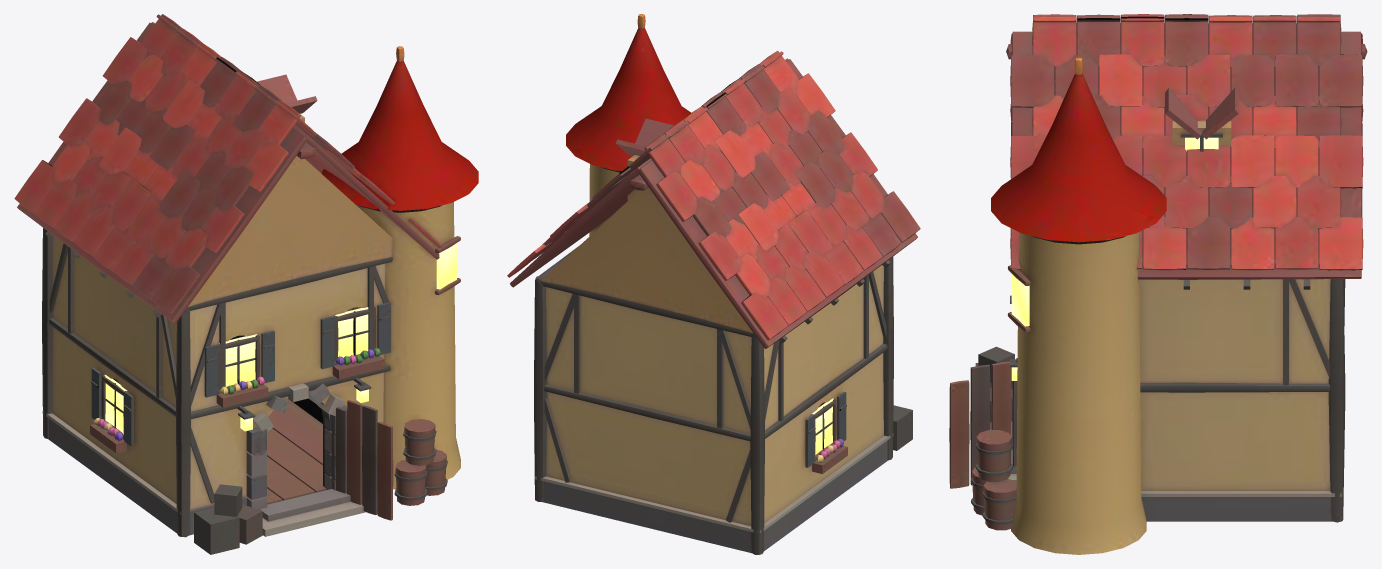
The model's file is house_c.glb.
3 views of the same model, side by side, from view 1: azimuth 30°, elevation 25°; view 2: azimuth 150°, elevation 25°; view 3: azimuth 270°, elevation 25° (orthographic). The views are drawn at different scales.
Parts seen in each view (by area): view 1: main, glow; view 2: main, glow; view 3: main, glow.
Boxes of the visible parts, box(x1,y1,x2,y2) form: main: box(14, 14, 478, 554); glow: box(104, 243, 456, 433); main: box(507, 14, 920, 554); glow: box(812, 398, 833, 454); main: box(949, 14, 1367, 554); glow: box(1011, 137, 1218, 380).
Bounding box in the file's own units: 9.07 × 11.05 × 8.91.
2 materials, 1 textured.
